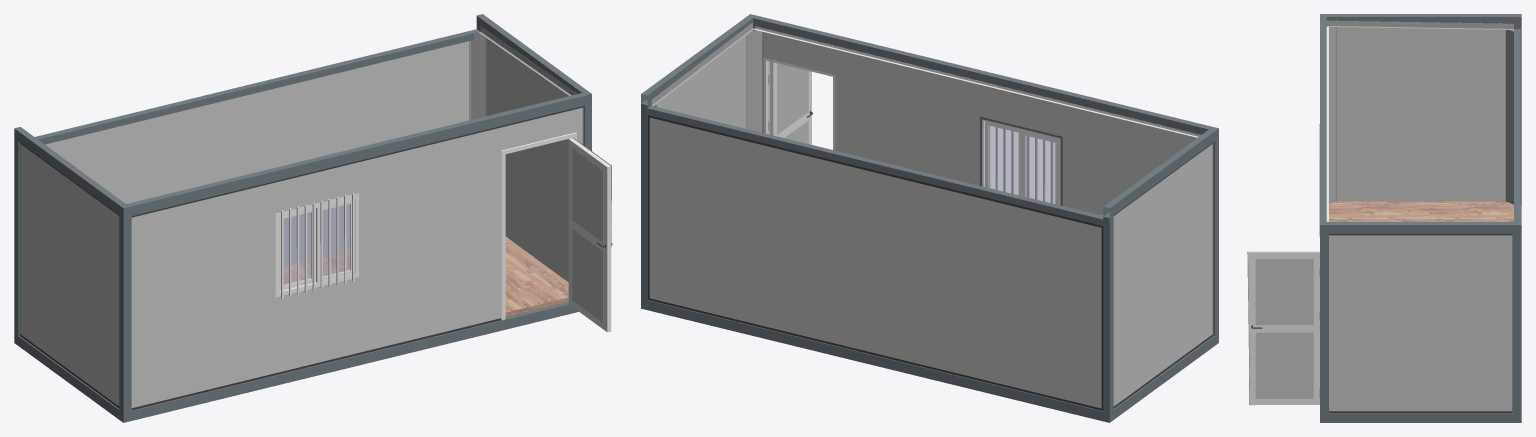
Rendered from diafano-1.glb.
3 renders of one model, left to right at view 1: azimuth 30°, elevation 25°; view 2: azimuth 150°, elevation 25°; view 3: azimuth 270°, elevation 25°, orthographic. The views are drawn at different scales.
Visible parts, largest first — view 1: BE, 83, 80, 7A, 16A, 180, 175, 102, E6, 122, CE, CE001 (+14 smaller); view 2: 83, BE, 80, 16A, 189, 175, 7A, 179, 15F, 8C, 87, 166 (+14 smaller); view 3: 7A, 80, CE001, CE, 102, E6, 183, 17D, 190, 166, 11D, F6 (+10 smaller).
Part boxes in pixels (x1,y1,x2,y2): BE: [131, 107, 582, 407]; 83: [45, 41, 469, 265]; 80: [20, 144, 119, 406]; 7A: [486, 38, 568, 282]; 16A: [123, 93, 591, 217]; 180: [123, 301, 578, 422]; 175: [35, 29, 479, 144]; 102: [283, 237, 568, 316]; E6: [568, 138, 611, 332]; 122: [119, 215, 131, 412]; CE: [572, 148, 603, 242]; CE001: [572, 228, 603, 322]; 83: [649, 117, 1101, 408]; BE: [754, 30, 1196, 215]; 80: [1113, 144, 1212, 406]; 16A: [750, 14, 1217, 134]; 189: [641, 299, 1109, 422]; 175: [647, 106, 1103, 225]; 7A: [654, 36, 746, 128]; 179: [1103, 215, 1113, 412]; 15F: [754, 26, 1200, 137]; 8C: [1025, 136, 1055, 203]; 87: [989, 125, 1018, 194]; 166: [1103, 128, 1218, 217]; 7A: [1329, 235, 1512, 411]; 80: [1329, 27, 1513, 201]; CE001: [1255, 332, 1313, 398]; CE: [1255, 259, 1313, 324]; 102: [1329, 201, 1513, 221]; E6: [1249, 251, 1319, 404]; 183: [1320, 222, 1521, 233]; 17D: [1320, 413, 1521, 422]; 190: [1512, 234, 1521, 413]; 166: [1320, 14, 1521, 25]; 11D: [1320, 234, 1328, 413]; F6: [1505, 30, 1514, 204].
Bounding box in the file's own units: 0.594 × 0.26 × 0.3261.
Materials: 85 (1 with a texture image).
